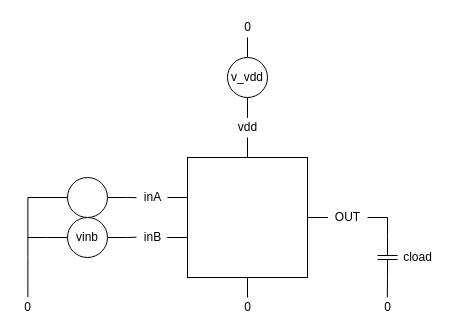
Image size: 454x334. Some labels were removed from this diagram. The shapes that lost their labels are listed below. From the top down, each one's centre as x and y in pixels, then its label:
point 87,197: vina
point 247,217: xnand
